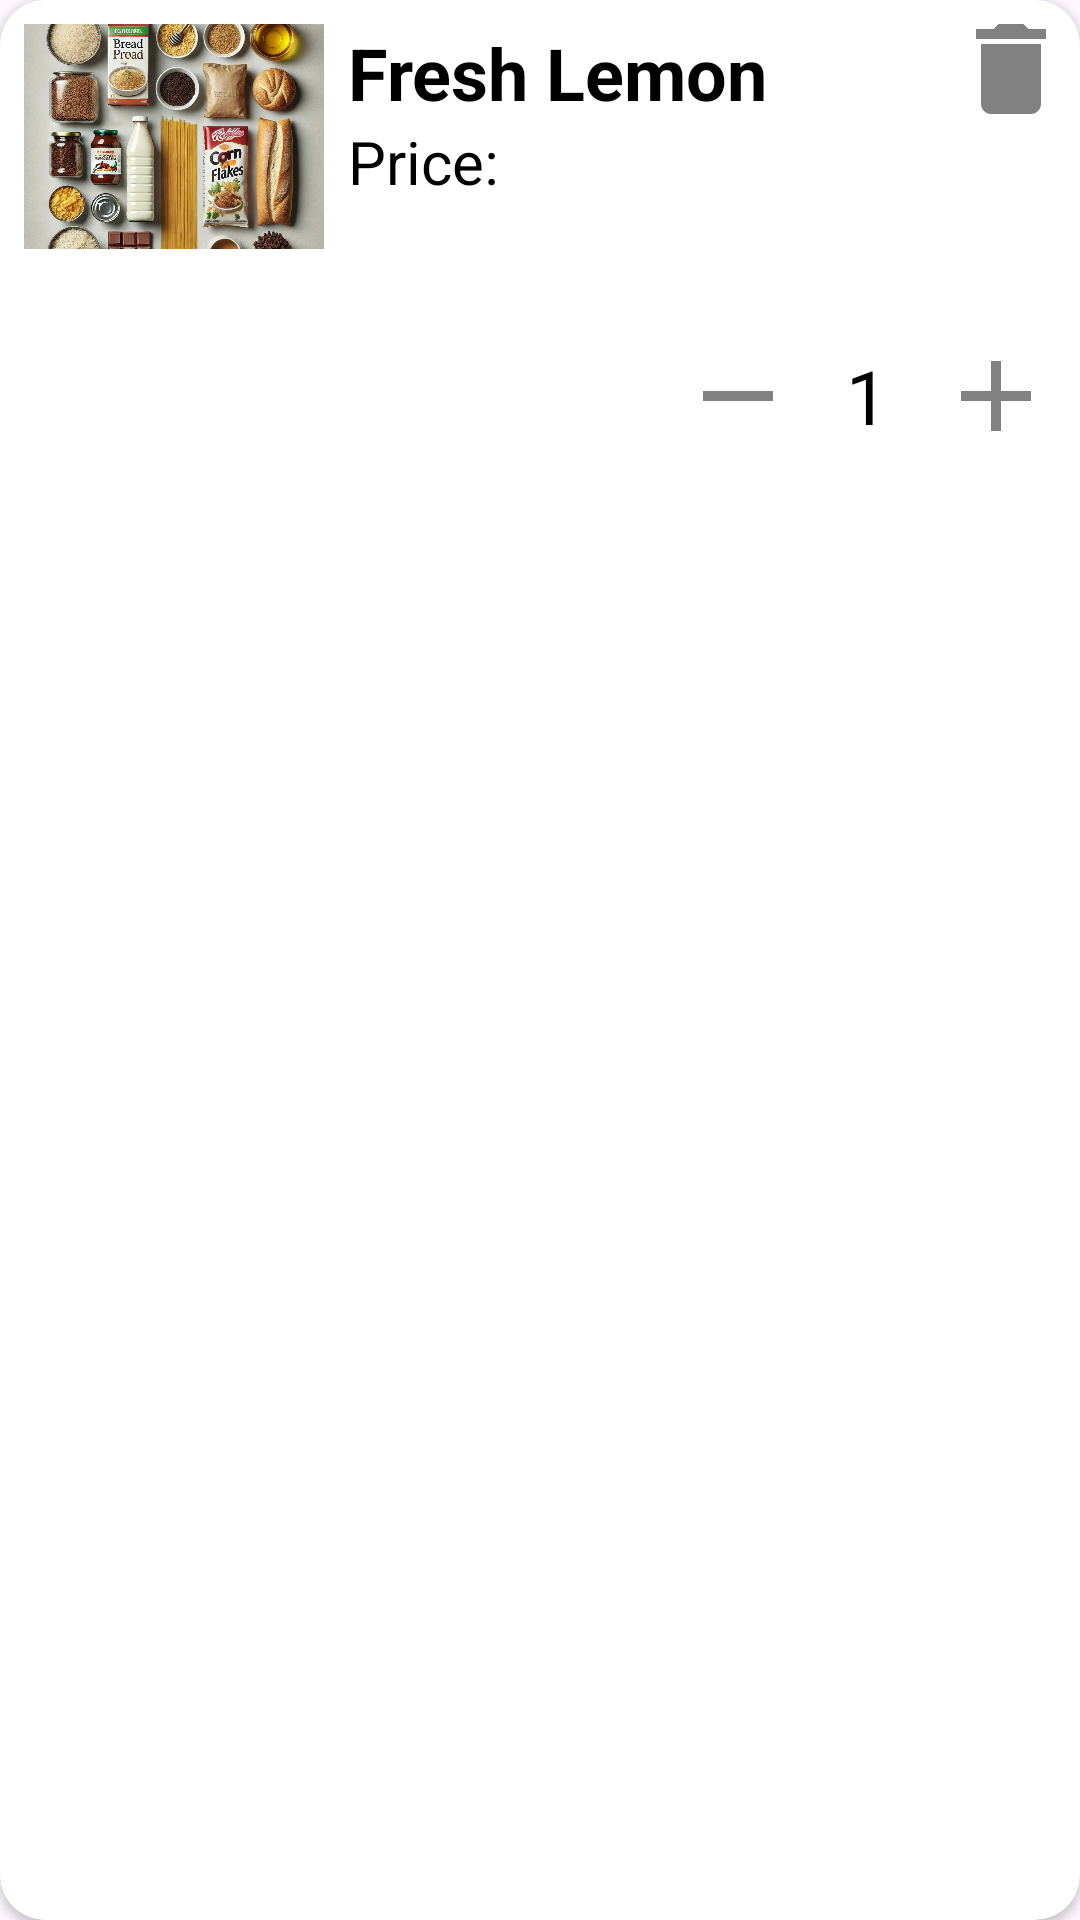

Point at icon controls on the screen. Image size 1080px×1920px, points as [x,y].
Increment: [996,396]
stuff: [174,136]
